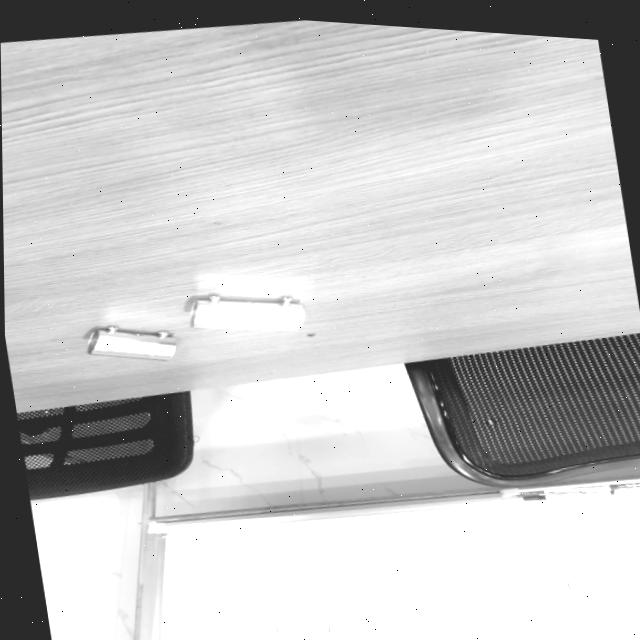Co_Lon: (190, 294, 304, 330)
Co_Nho: (87, 323, 177, 362)
